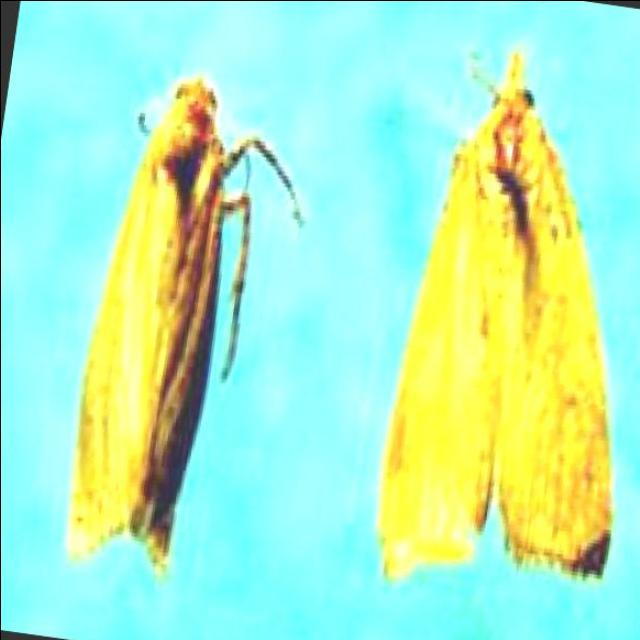stem borer: (378, 52, 611, 576), (67, 76, 300, 566)
